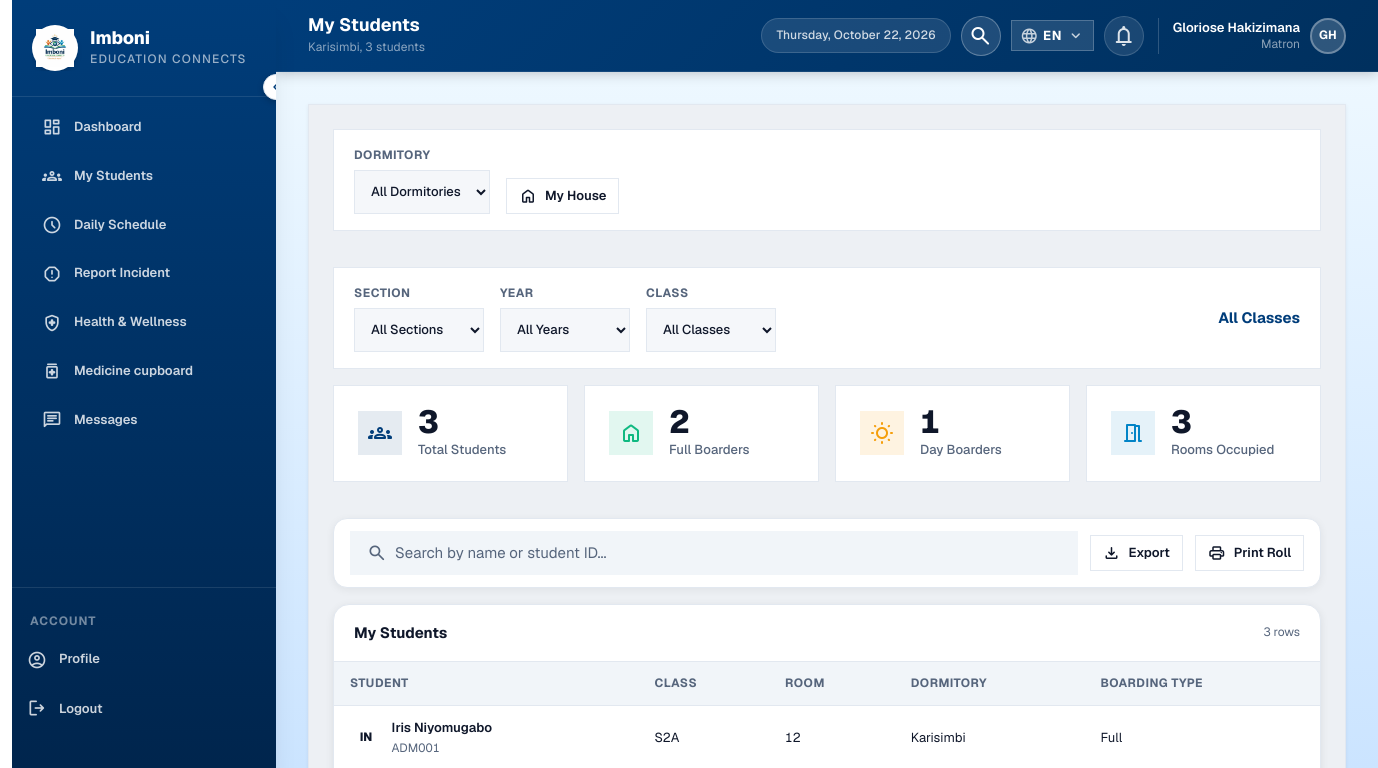
Scenario: MatronStudents › narrows to one dormitory
Select "Bisoke" in the dropdown labelled "Dormitory": [422, 192] box [354, 170, 490, 214]
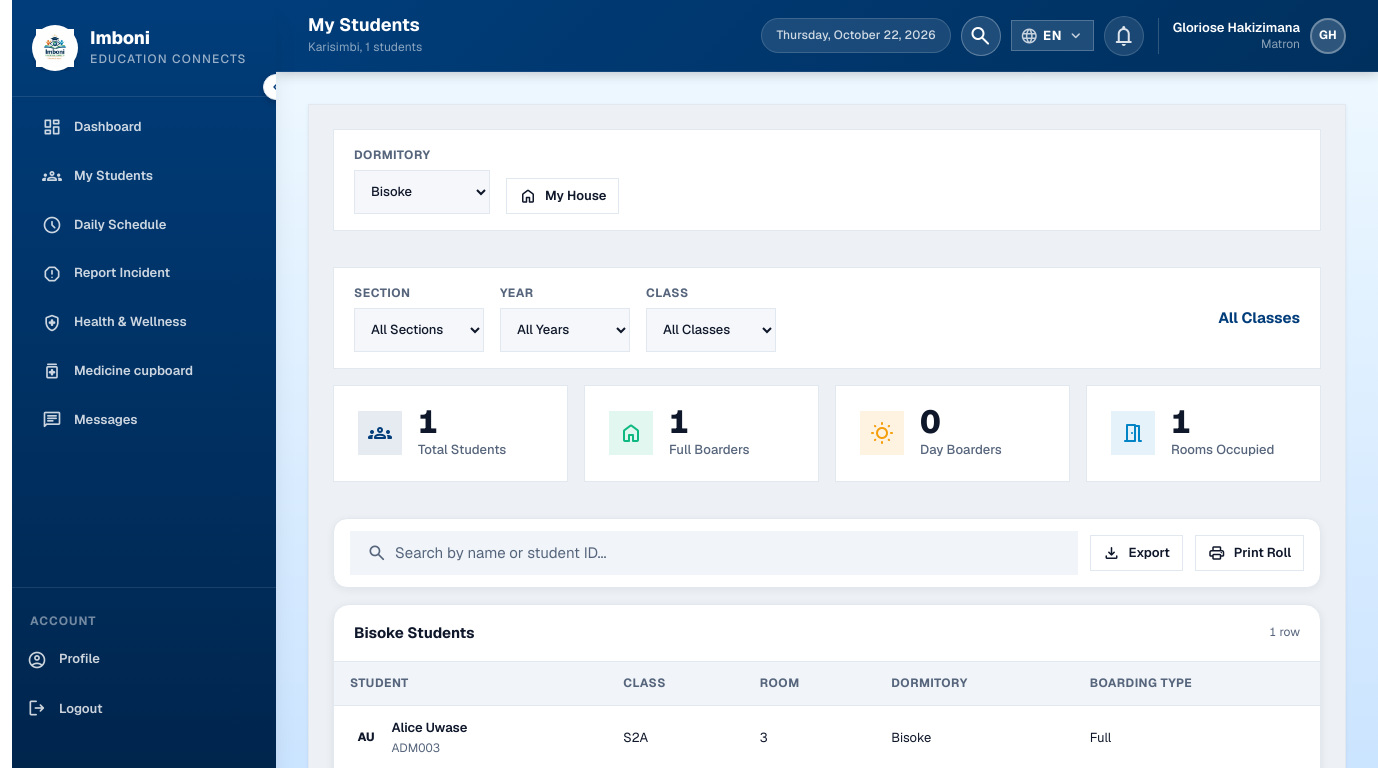
Expected: the button "Alice Uwase" is shown, [392, 718, 467, 739]
Expected: the button "Iris Niyomugabo" is gone
